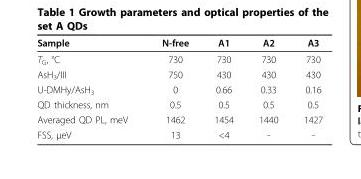table: (36, 36, 322, 139)
table column: (36, 36, 144, 139), (144, 36, 200, 139), (200, 36, 245, 139), (245, 36, 290, 139), (290, 36, 322, 139)
table column header: (36, 36, 322, 50)
table row: (36, 50, 322, 66), (36, 66, 322, 82), (36, 82, 322, 97), (36, 111, 322, 126), (36, 36, 322, 50), (36, 97, 322, 111), (36, 126, 322, 139)
